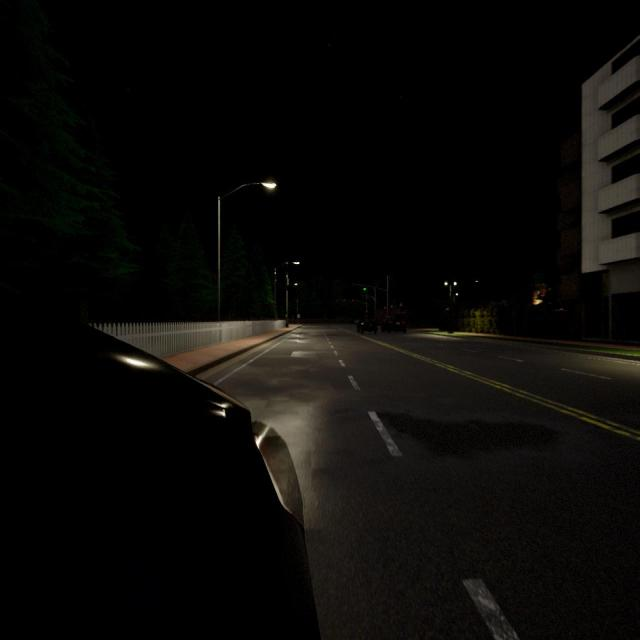Traffic_Signs: (297, 314, 300, 318)
Vehicle: (0, 290, 319, 640), (380, 316, 407, 334), (356, 317, 378, 334)
traffic_light: (363, 286, 367, 292), (343, 299, 345, 303), (366, 310, 367, 314), (336, 300, 338, 302), (352, 300, 354, 302)
